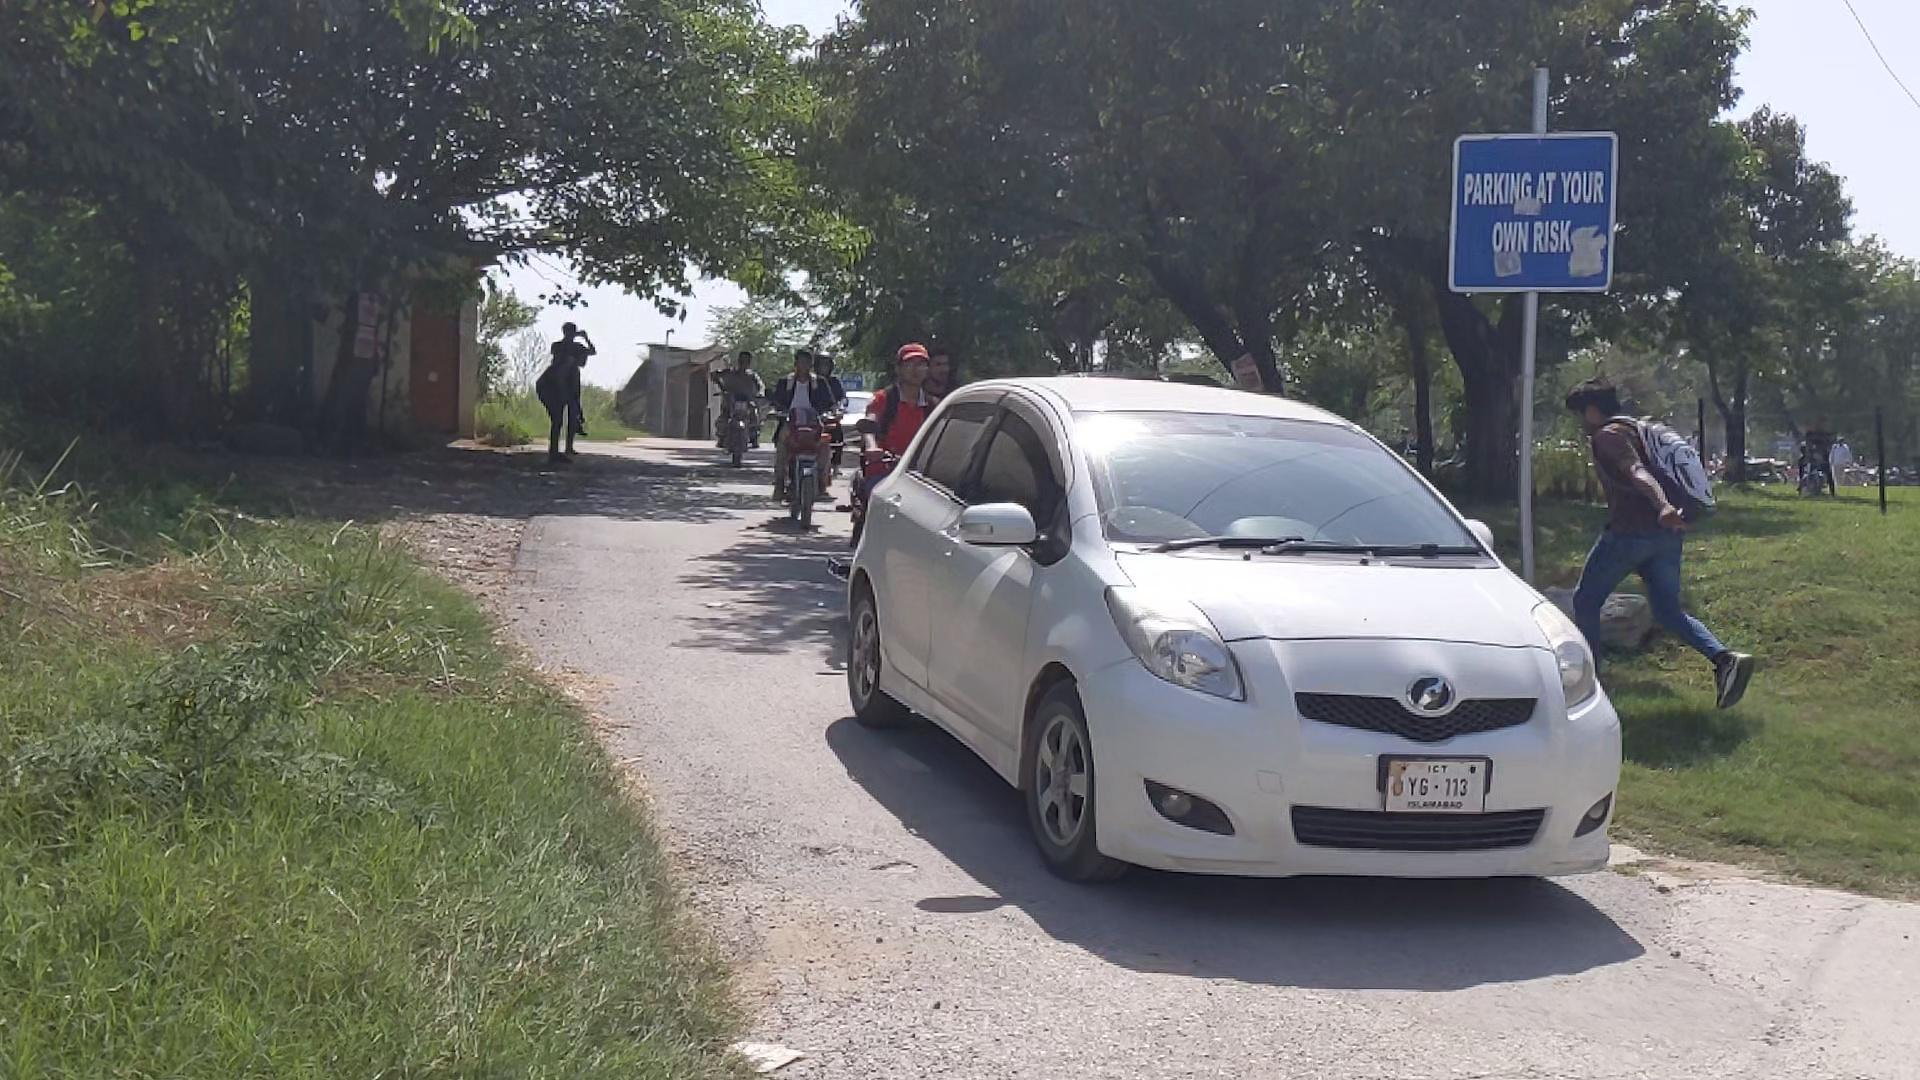windshield: (1051, 406, 1497, 567)
